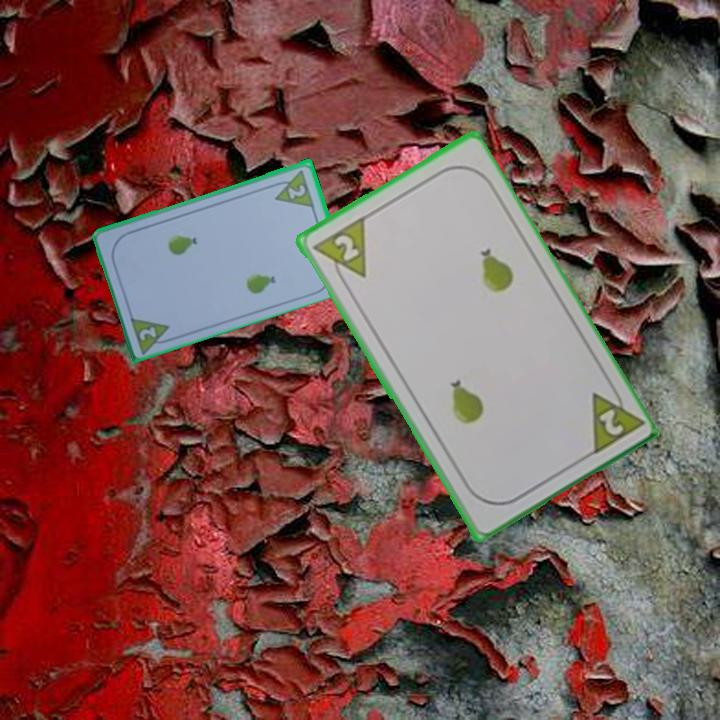2p: (308, 213, 369, 291), (585, 379, 644, 459), (268, 165, 317, 209), (135, 322, 160, 343)
